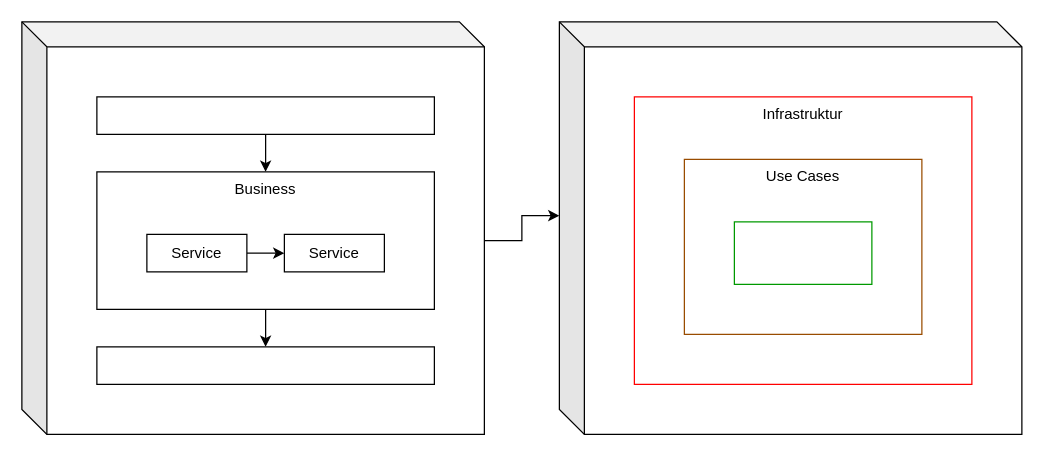
The diagram is 1044 pixels wide and 456 high, and some of its shapes have lost their labels. The shapes that lost their labels are listed below. From the top down, each one's centre as x and y in pixels, then its label:
pixel 265 115: API
pixel 802 252: Domain
pixel 265 365: DB
